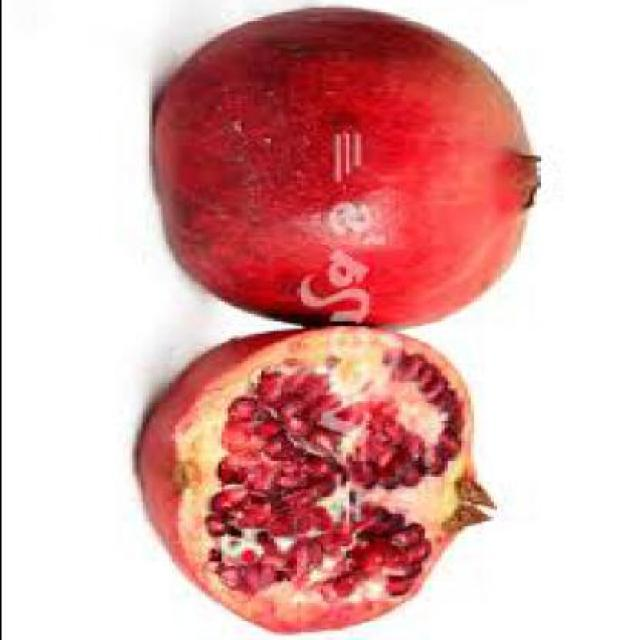BIODEGRADABLE: (152, 8, 540, 329), (135, 328, 498, 637), (205, 358, 465, 594)
